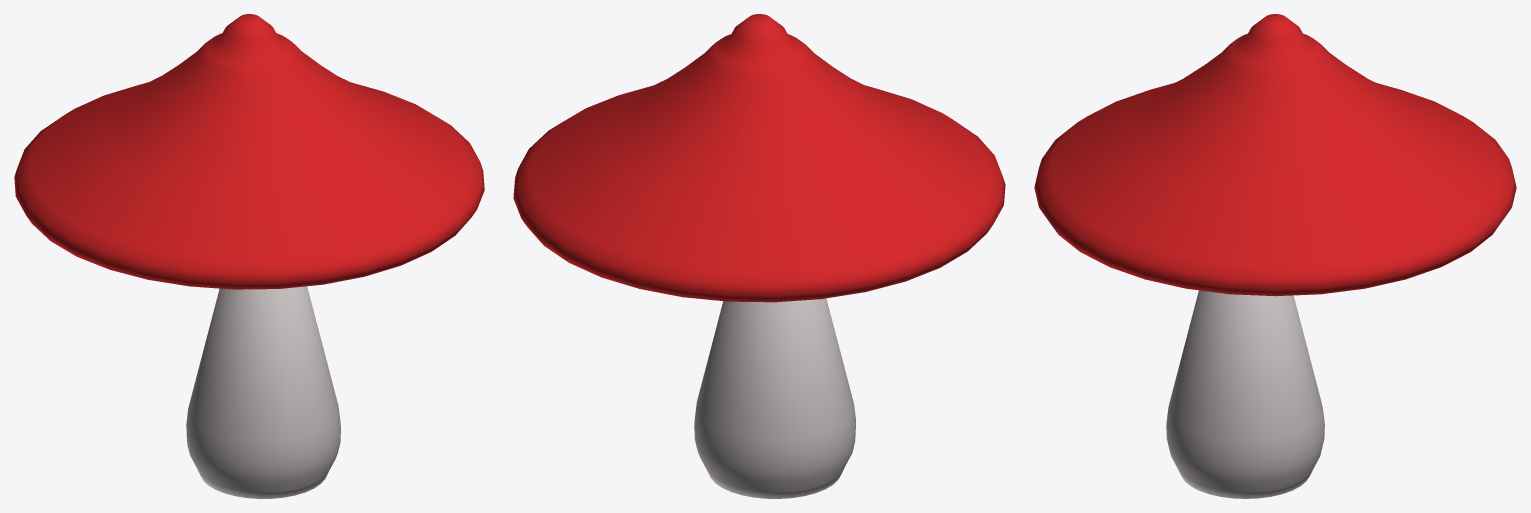
File: mushrooms1.fbx
3 views of the same model, side by side, from view 1: azimuth 30°, elevation 25°; view 2: azimuth 150°, elevation 25°; view 3: azimuth 270°, elevation 25° (orthographic). The views are drawn at different scales.
Visible parts, largest first — view 1: Cylinder.001; view 2: Cylinder.001; view 3: Cylinder.001.
Part boxes in pixels (box(x1,y1,x2,y2)): Cylinder.001: box(14, 14, 484, 498); Cylinder.001: box(513, 14, 1005, 498); Cylinder.001: box(1034, 14, 1516, 498).
Size of the model in its own units: 466 by 483 by 466.
